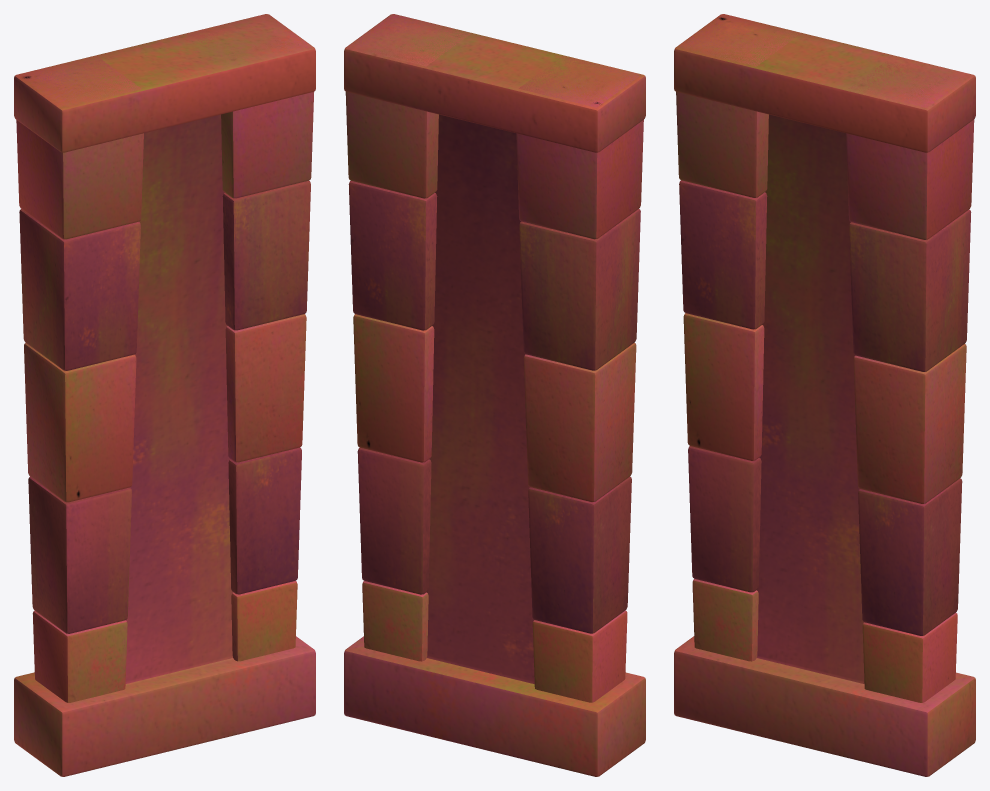
Rendered from TEMPLE_WALL_1_002.obj.
The picture shows the model from 3 angles, left to right: view 1: azimuth 30°, elevation 25°; view 2: azimuth 150°, elevation 25°; view 3: azimuth 330°, elevation 25°; orthographic projection.
Visible parts, largest first — view 1: TEMPLE_WALL_1_002; view 2: TEMPLE_WALL_1_002; view 3: TEMPLE_WALL_1_002.
Part boxes in pixels (x1=…): TEMPLE_WALL_1_002: x1=14, y1=14, x2=315, y2=776; TEMPLE_WALL_1_002: x1=344, y1=14, x2=645, y2=776; TEMPLE_WALL_1_002: x1=674, y1=14, x2=975, y2=776.
Bounding box in the file's own units: 1.2 × 3 × 0.4.
